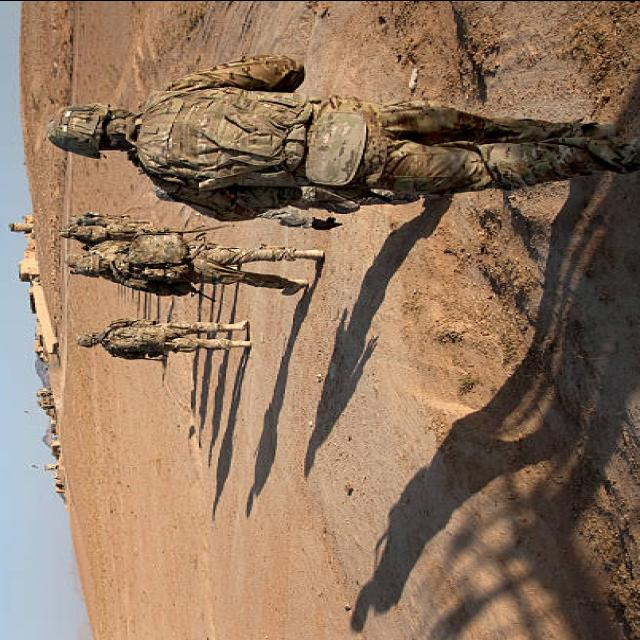soldier: (48, 55, 640, 219), (68, 230, 326, 295), (78, 318, 250, 359), (59, 222, 155, 245)
